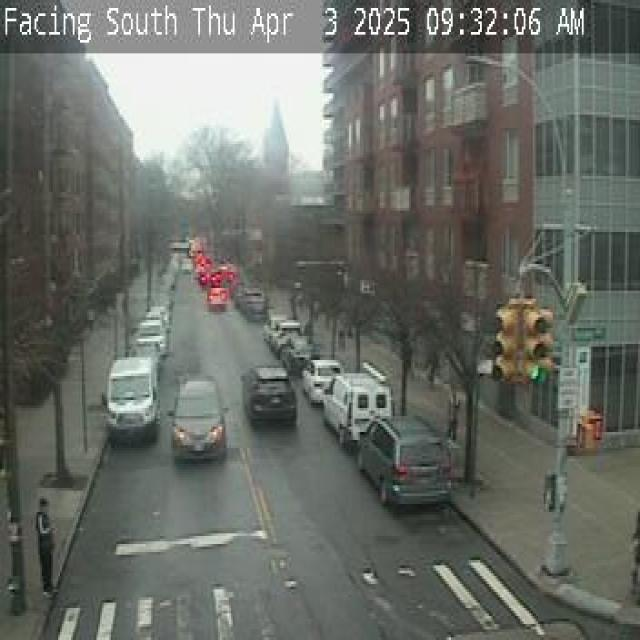open parking: (84, 404, 152, 526), (255, 306, 288, 332)
parkedCars: (332, 363, 454, 505), (108, 295, 172, 437), (264, 330, 348, 382), (238, 289, 272, 320)
